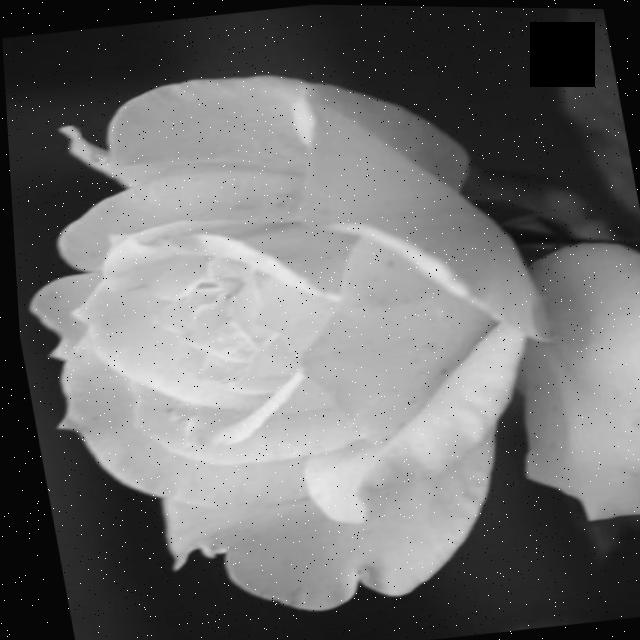rose: (1, 16, 640, 632)
